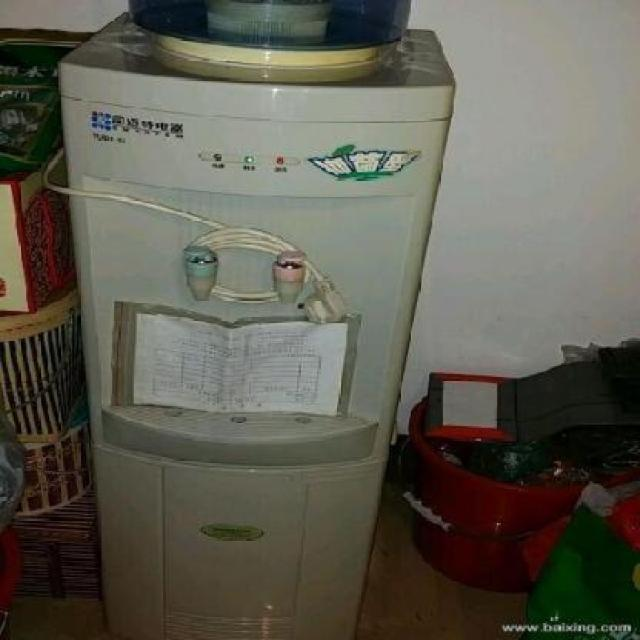cooler: (55, 0, 463, 640)
